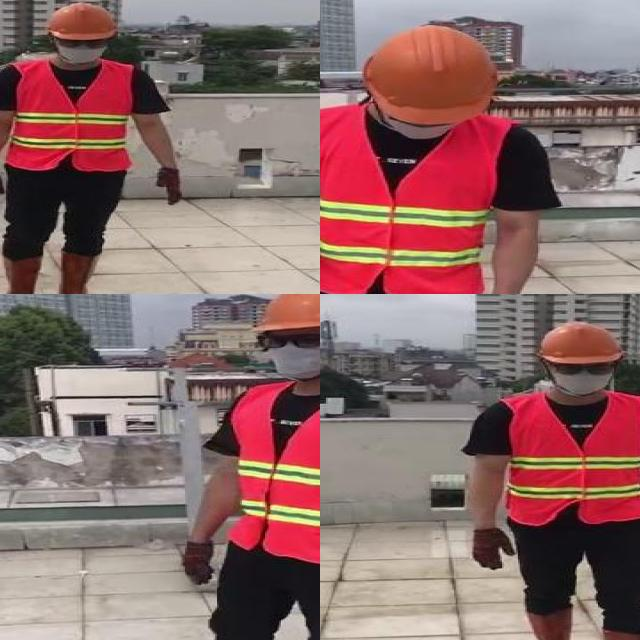boots: (57, 249, 103, 294), (0, 255, 41, 294), (523, 611, 569, 640)
face_mask: (255, 327, 320, 378), (550, 360, 616, 395), (56, 35, 112, 64)
glasses: (253, 330, 320, 352), (551, 360, 615, 377), (54, 35, 111, 52)
hand_glove: (474, 528, 514, 570), (180, 542, 208, 584), (155, 167, 184, 205)
head_helmet: (358, 23, 502, 125), (538, 322, 626, 364), (42, 1, 120, 42), (254, 294, 320, 331)
person: (320, 21, 556, 294), (135, 294, 320, 640), (465, 319, 640, 640), (0, 0, 191, 294)
vest: (320, 110, 506, 294), (503, 392, 640, 522), (226, 382, 320, 562), (6, 60, 129, 171)
